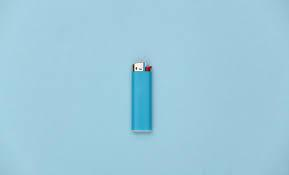lighter: (133, 61, 154, 132)
